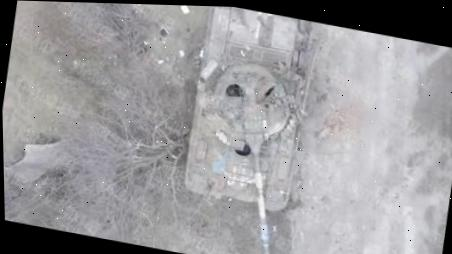tank: (168, 5, 324, 254)
